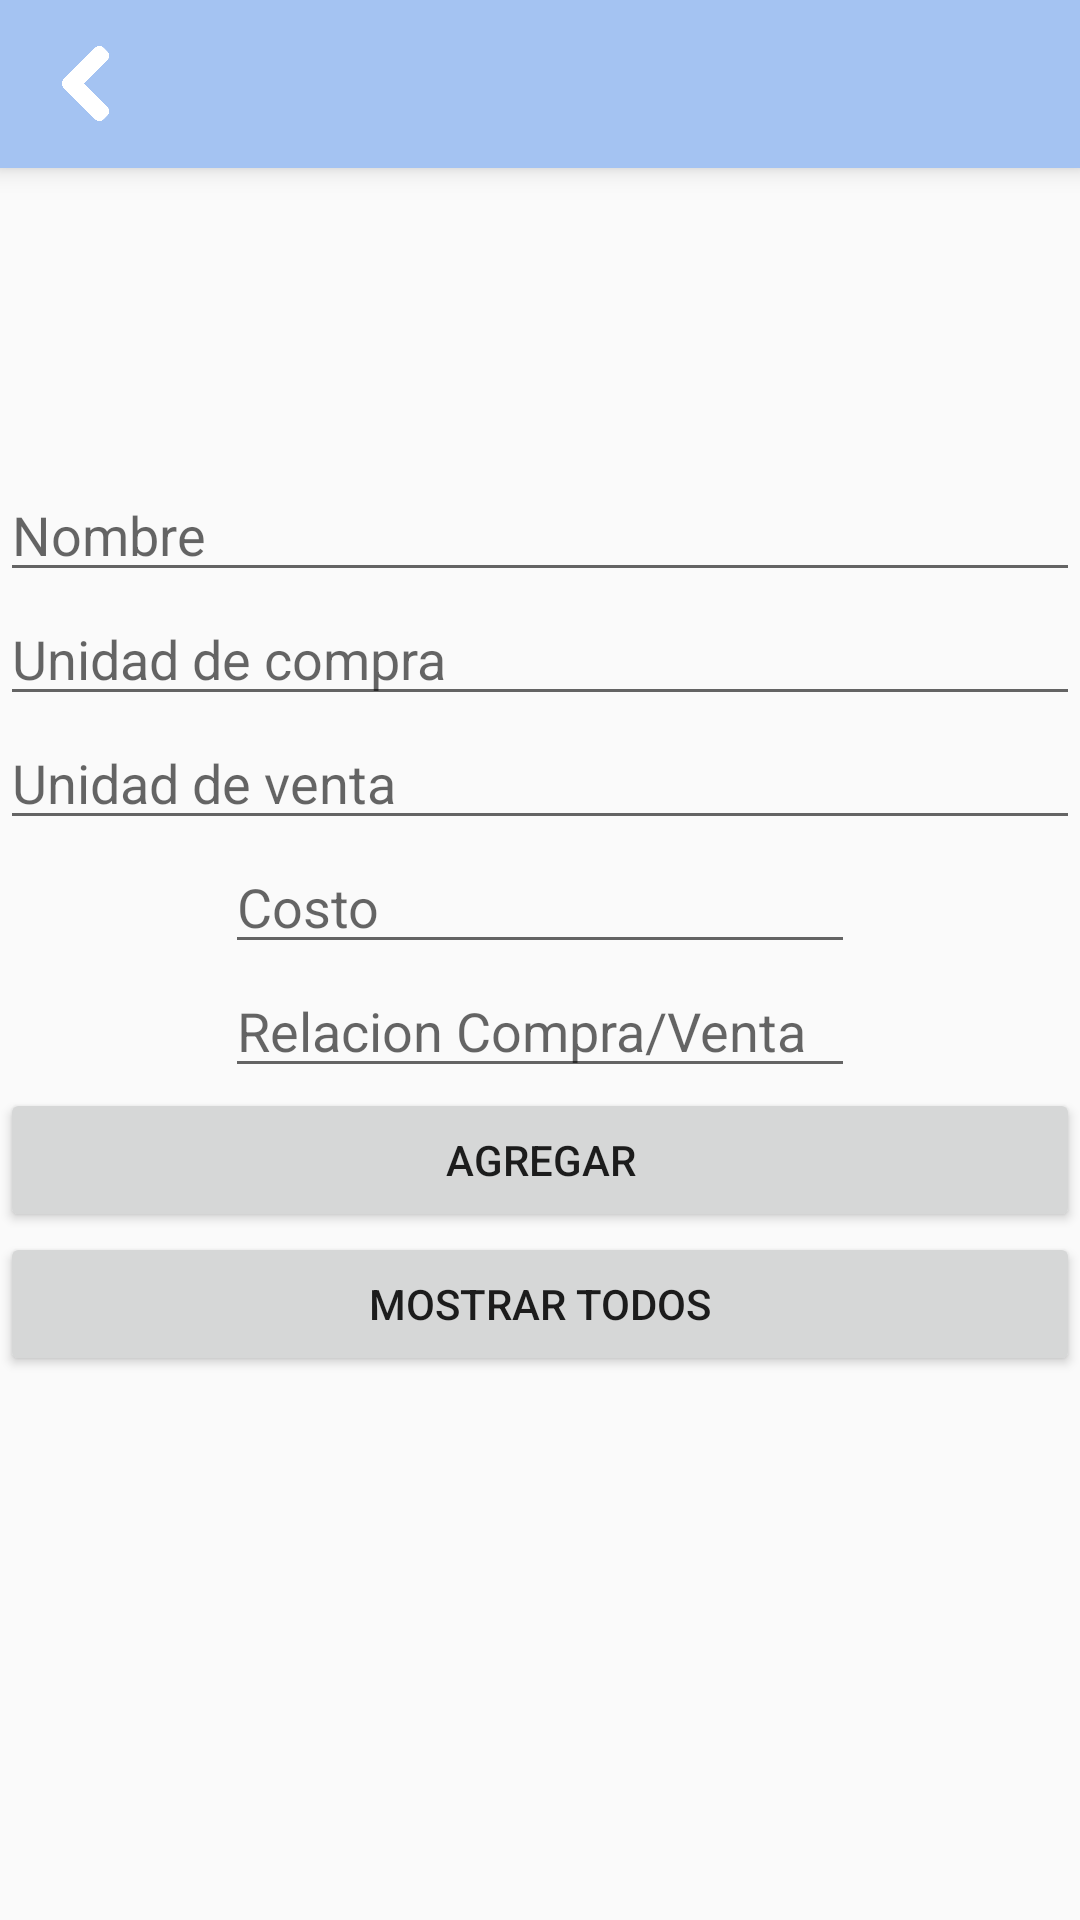

Icons on this 1080*1920 Android screen, each with its box as (x1, y1, x2, y2):
back: (62, 46, 109, 121)
